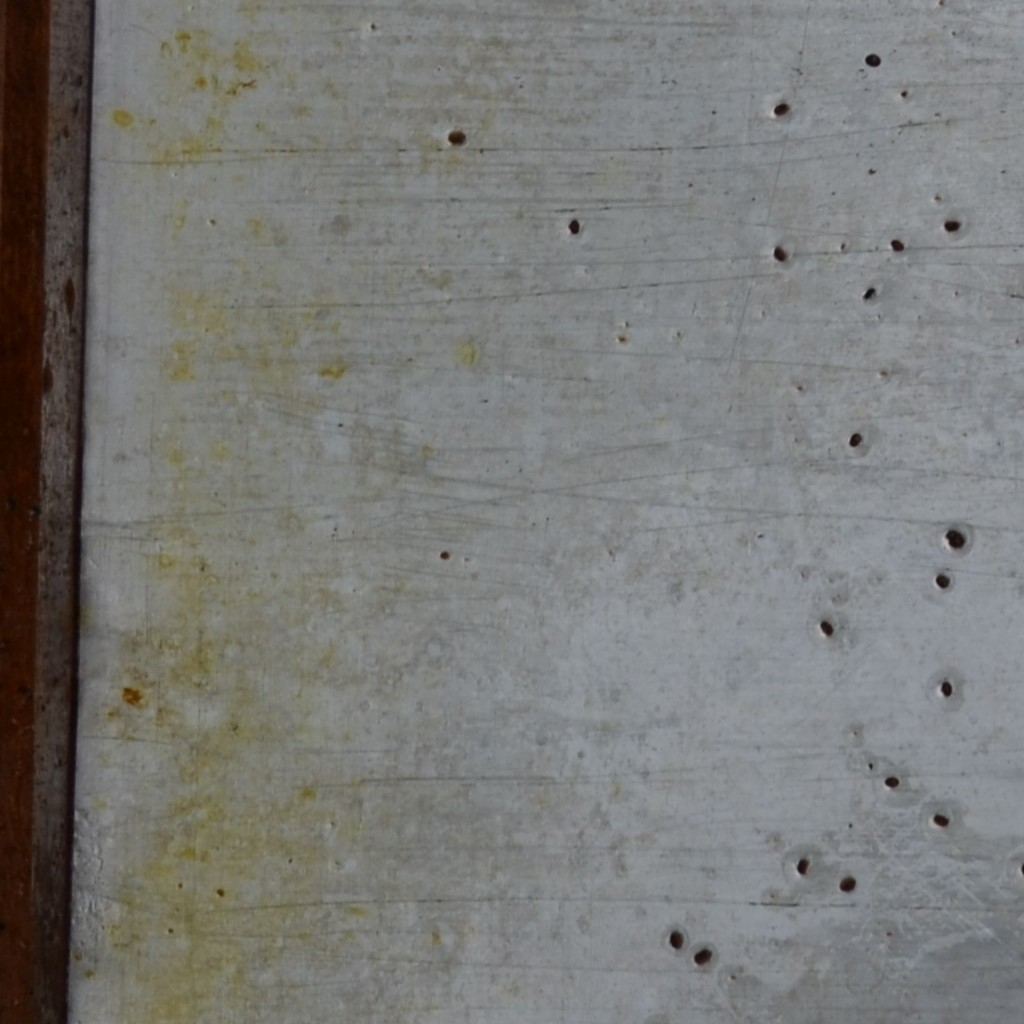varroa: (942, 528, 970, 549), (769, 241, 790, 264), (691, 944, 715, 964), (445, 126, 467, 147), (817, 615, 839, 636), (836, 875, 858, 896), (668, 927, 685, 952), (933, 569, 953, 590), (847, 428, 865, 450), (795, 852, 811, 876), (933, 807, 951, 828), (883, 772, 902, 791), (772, 98, 790, 118), (565, 216, 583, 236), (938, 675, 955, 696), (865, 48, 881, 68), (942, 217, 962, 232), (890, 236, 908, 252)
